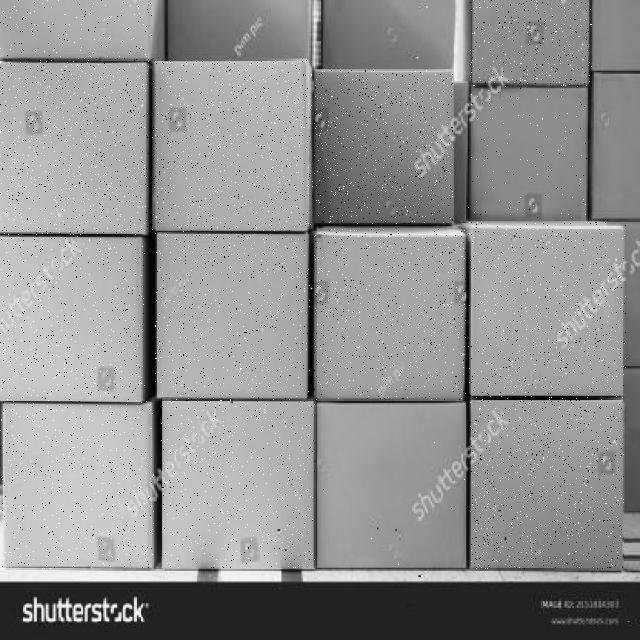BoxFace: (468, 222, 626, 396), (152, 60, 311, 231), (470, 396, 624, 570), (0, 58, 149, 234), (154, 230, 310, 398), (162, 398, 316, 568), (314, 229, 466, 400), (0, 402, 154, 570), (317, 400, 468, 568), (0, 234, 145, 404), (311, 70, 454, 224), (468, 86, 587, 219), (470, 0, 592, 86), (0, 0, 155, 61)
